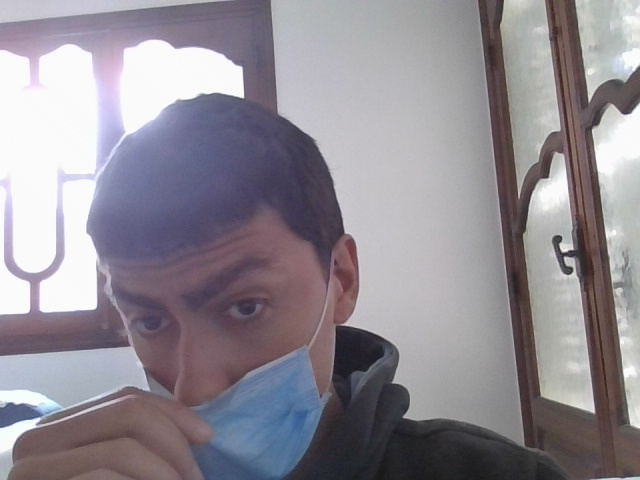mask_weared_incorrect: (111, 201, 326, 480)
